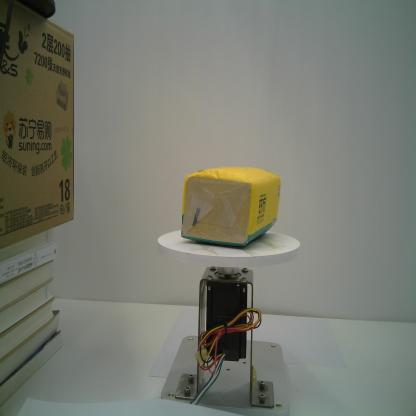Tissue: (178, 163, 284, 251)
